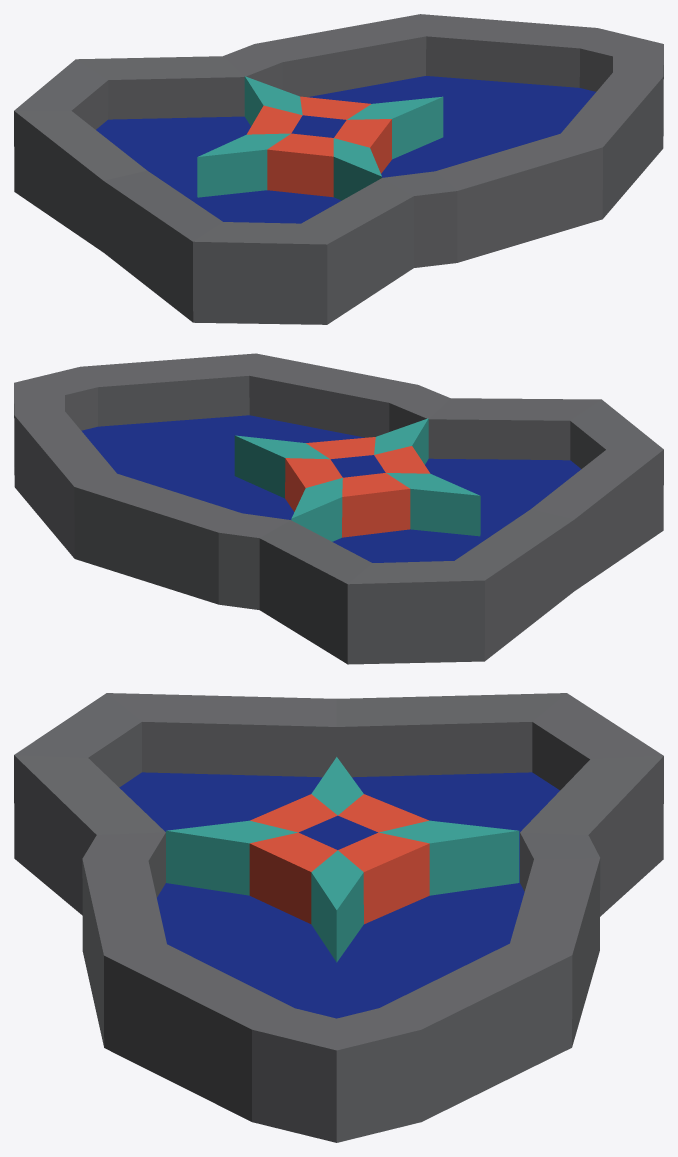
The model's file is scudo.fbx.
3 renders of one model, top to bottom at view 1: azimuth 30°, elevation 25°; view 2: azimuth 150°, elevation 25°; view 3: azimuth 270°, elevation 25°, orthographic. The views are drawn at different scales.
Visible parts, largest first — view 1: Cube; view 2: Cube; view 3: Cube.
Part boxes in pixels (bbox=[...]): Cube: bbox=[14, 14, 663, 324]; Cube: bbox=[14, 353, 663, 664]; Cube: bbox=[14, 693, 663, 1142].
Bounding box in the file's own units: 267 × 37.01 × 209.
